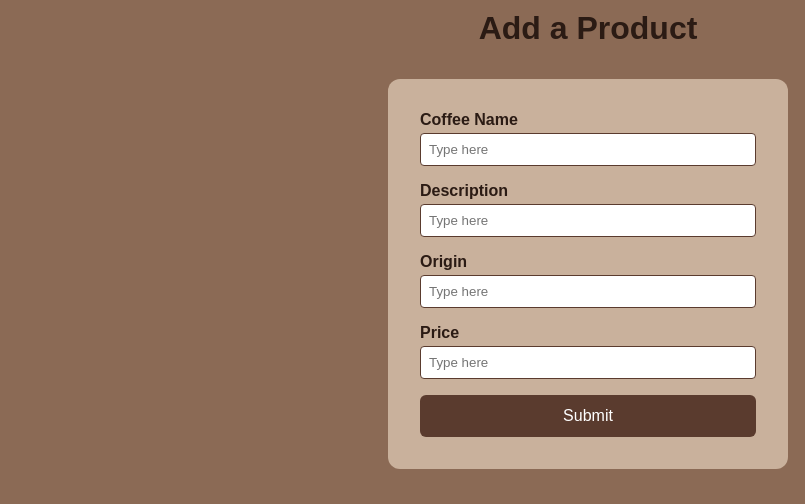
Scenario: Admin › shows a success message after submitting the form
The width and height of the screenshot is (805, 504).
In the field labelled "Coffee Name": {"x": 588, "y": 150} [420,133,756,166], type "Mock Coffee"
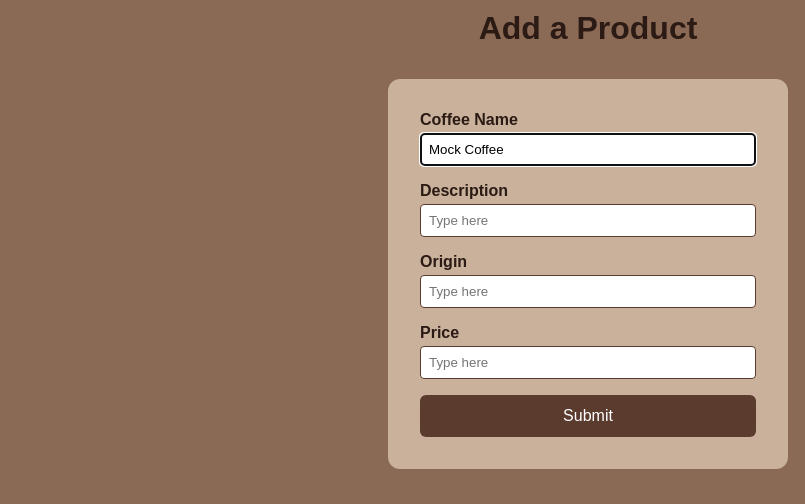
In the field labelled "Description": {"x": 588, "y": 220} [420,204,756,237], type "A mock roast"
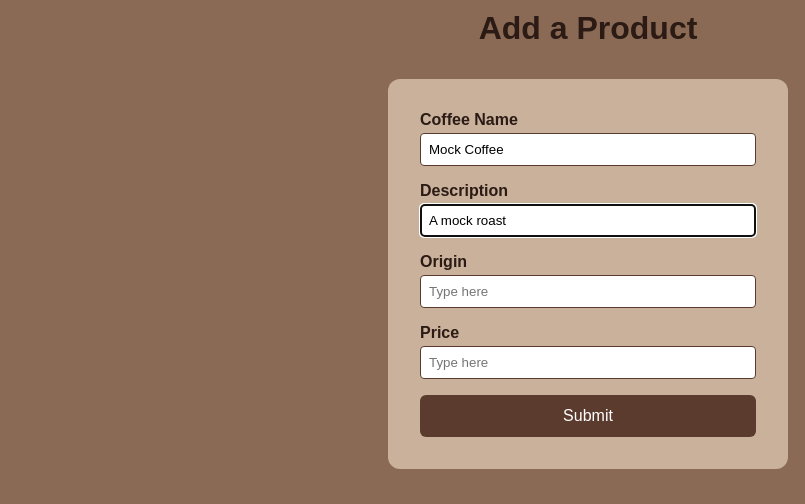
In the field labelled "Origin": {"x": 588, "y": 292} [420,275,756,308], type "Mockland"
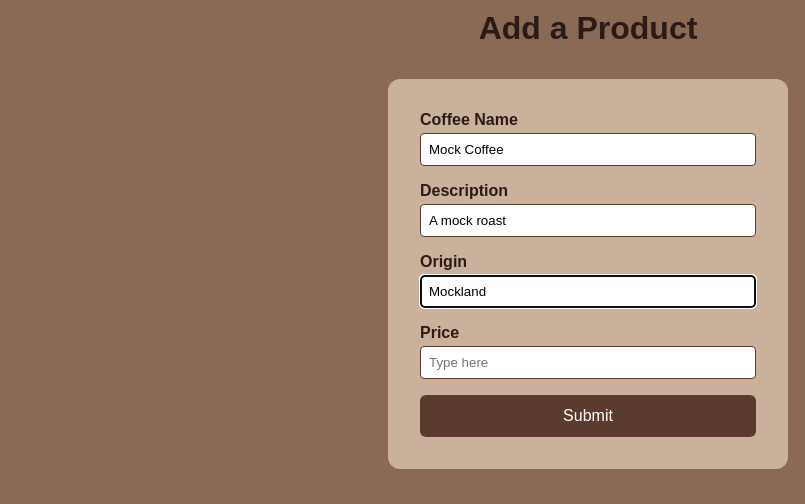
In the number field labelled "Price": {"x": 588, "y": 362} [420,346,756,379], type "9.99"
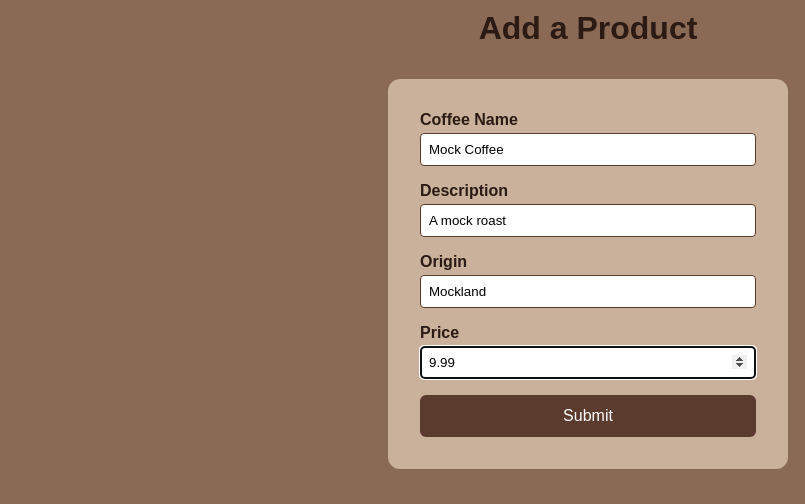
Click the button "Submit": {"x": 588, "y": 416} [420,395,756,437]
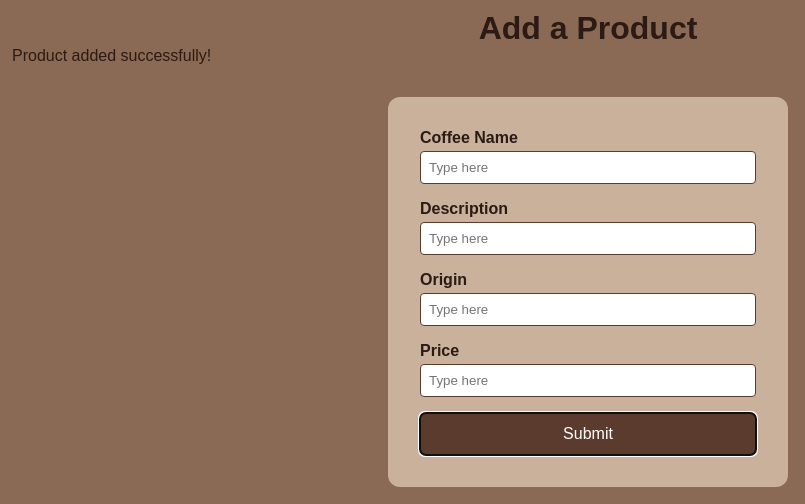
Result: the text "Product added successfully!" is shown at [12,47,211,64]
